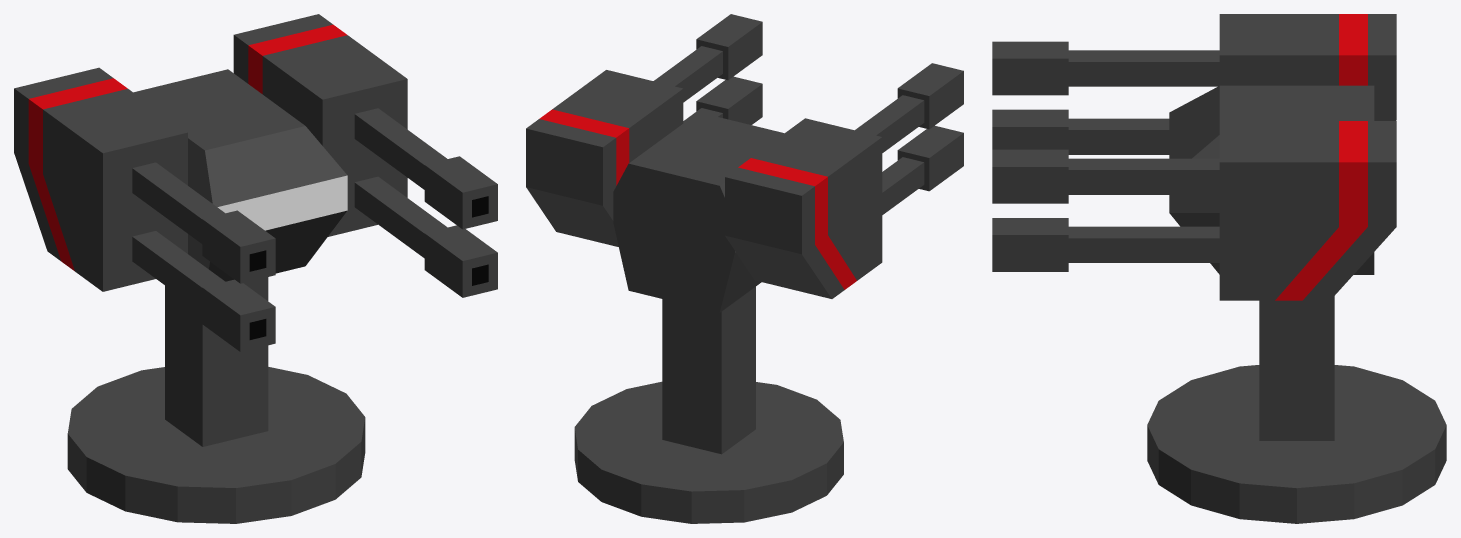
Rendered from Enemy_GunTurret.fbx.
The picture shows the model from 3 angles, left to right: view 1: azimuth 30°, elevation 25°; view 2: azimuth 150°, elevation 25°; view 3: azimuth 270°, elevation 25°; orthographic projection. The views are drawn at different scales.
Visible parts, largest first — view 1: GunTurret_Base, GunTurret_Body2, Cube, GunTurret_Body; view 2: GunTurret_Base, GunTurret_Body2, GunTurret_Body, Cube; view 3: GunTurret_Base, GunTurret_Body2, Cube, GunTurret_Body.
Boxes of the visible parts, x1=… form: GunTurret_Base: x1=67, y1=277, x2=365, y2=523; GunTurret_Body2: x1=14, y1=14, x2=407, y2=291; Cube: x1=132, y1=108, x2=497, y2=351; GunTurret_Body: x1=133, y1=69, x2=347, y2=281; GunTurret_Base: x1=574, y1=286, x2=843, y2=523; GunTurret_Body2: x1=526, y1=70, x2=882, y2=298; GunTurret_Body: x1=613, y1=112, x2=784, y2=312; Cube: x1=653, y1=14, x2=963, y2=214; GunTurret_Base: x1=1147, y1=296, x2=1446, y2=523; GunTurret_Body2: x1=1219, y1=14, x2=1396, y2=300; Cube: x1=992, y1=41, x2=1219, y2=271; GunTurret_Body: x1=1169, y1=85, x2=1374, y2=274.
Bounding box in the file's own units: 454 × 532 × 588.
